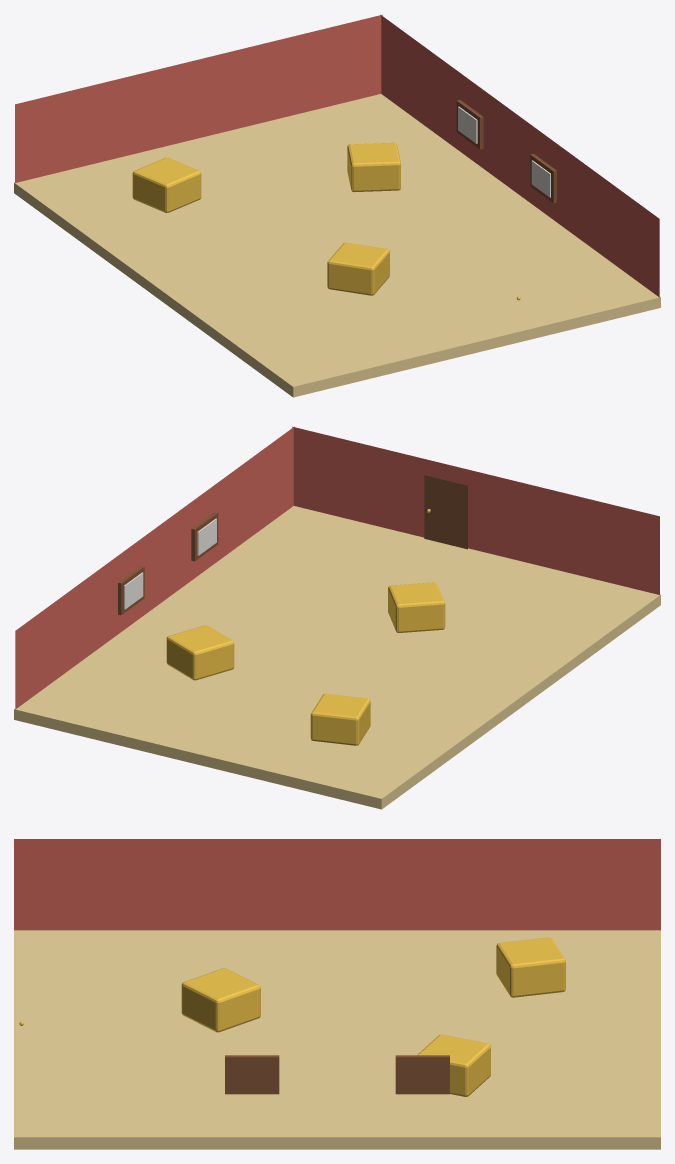
Rendered from room_barn.glb.
3 views of the same model, one above another, from view 1: azimuth 30°, elevation 25°; view 2: azimuth 150°, elevation 25°; view 3: azimuth 270°, elevation 25° (orthographic). The views are drawn at different scales.
Visible parts, largest first — view 1: RoomN, Frame1, Frame2; view 2: RoomN, Frame2, Frame1; view 3: RoomN, Frame1, Frame2.
Part boxes in pixels (x1,y1,x2,y2): RoomN: (14, 14, 660, 397); Frame1: (456, 100, 483, 149); Frame2: (530, 153, 556, 203); RoomN: (14, 426, 660, 809); Frame2: (191, 512, 218, 561); Frame1: (118, 565, 144, 615); RoomN: (14, 839, 660, 1149); Frame1: (395, 1055, 449, 1094); Frame2: (225, 1055, 279, 1094).
Bounding box in the file's own units: 12.7 × 2.95 × 16.7.
